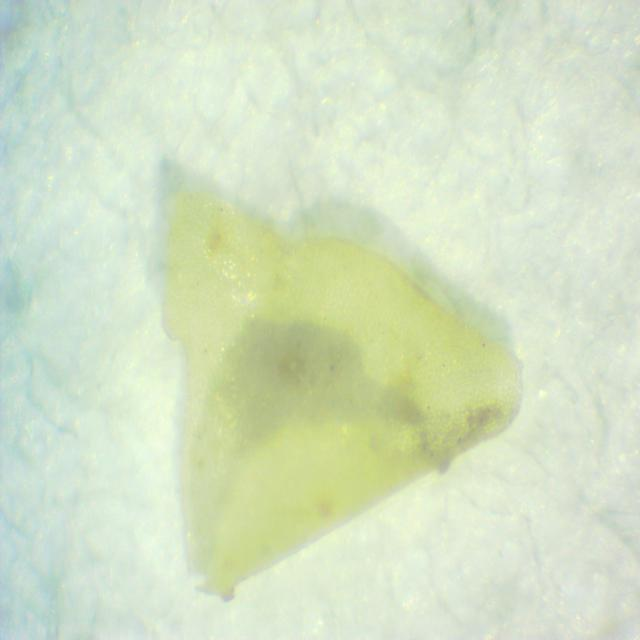microplastic: (161, 187, 523, 597)
